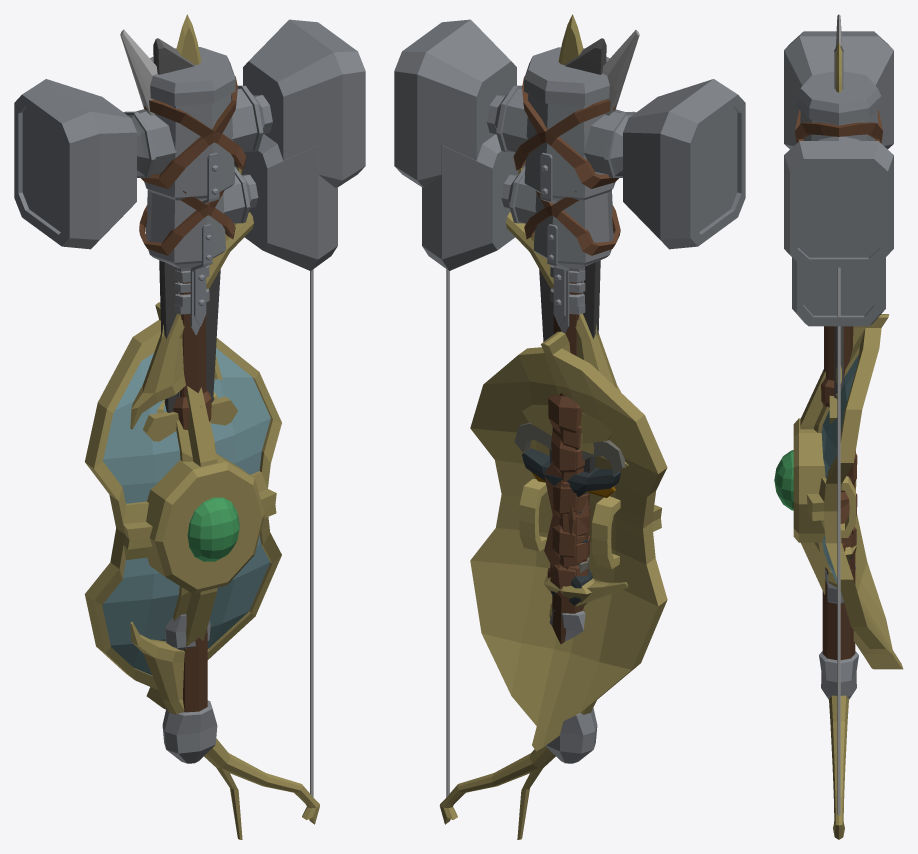
The model's file is weapons.glb.
3 views of the same model, side by side, from view 1: azimuth 30°, elevation 25°; view 2: azimuth 150°, elevation 25°; view 3: azimuth 270°, elevation 25° (orthographic). The views are drawn at different scales.
Visible parts, largest first — view 1: Hammer_Double, Shield_Celtic_Golden, Hammer_Small, Bow_Golden, Falchion, Dagger_2, Scimitar, Sword_Golden; view 2: Hammer_Double, Shield_Celtic_Golden, Hammer_Small, Bow_Golden, Falchion, Dagger_2, Sword_Golden, Scimitar; view 3: Hammer_Double, Shield_Celtic_Golden, Hammer_Small, Bow_Golden, Falchion, Sword_Golden, Dagger_2.
Part boxes in pixels (x1,y1,x2,y2): Hammer_Double: (14,19,365,763); Shield_Celtic_Golden: (84,302,281,709); Hammer_Small: (139,134,337,650); Bow_Golden: (130,166,319,839); Falchion: (153,38,220,412); Dagger_2: (143,331,237,441); Scimitar: (120,29,179,398); Sword_Golden: (157,14,222,413); Hammer_Double: (394,19,745,763); Shield_Celtic_Golden: (470,331,667,751); Hammer_Small: (422,134,620,641); Bow_Golden: (439,166,628,839); Falchion: (522,38,620,605); Dagger_2: (522,331,612,607); Sword_Golden: (514,14,625,573); Scimitar: (531,30,639,577); Hammer_Double: (784,31,893,699); Shield_Celtic_Golden: (774,314,903,669); Hammer_Small: (792,257,885,603); Bow_Golden: (828,267,853,839); Falchion: (834,45,852,558); Sword_Golden: (836,42,841,398); Dagger_2: (829,395,857,561).
Bounding box in the file's own units: 0.9025 × 2.45 × 0.386.
